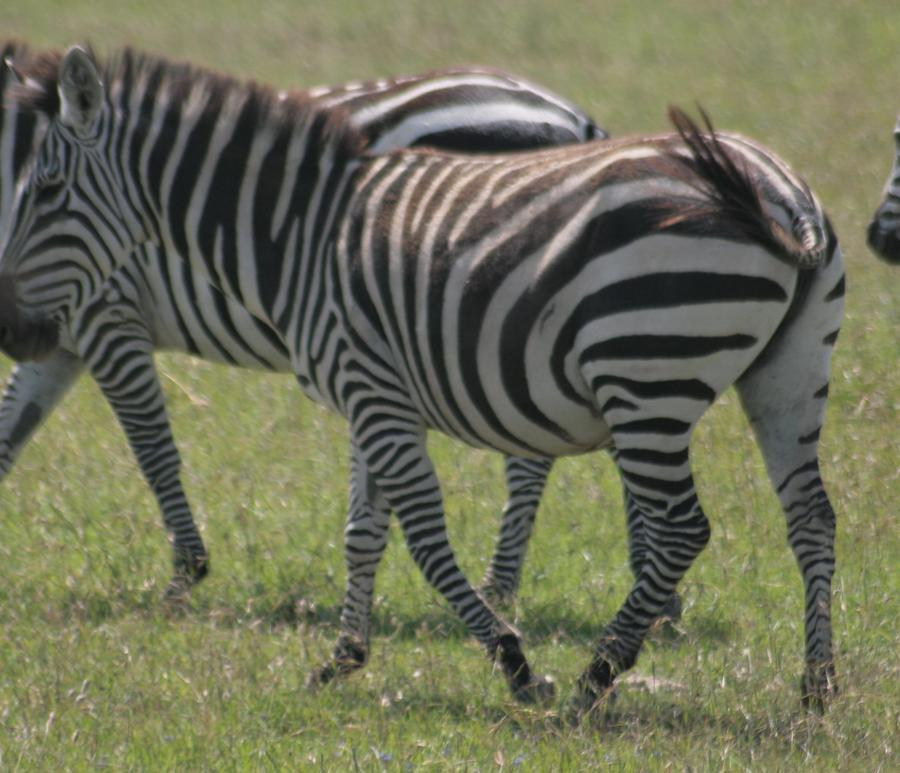zebra_plains: (290, 130, 739, 462)
